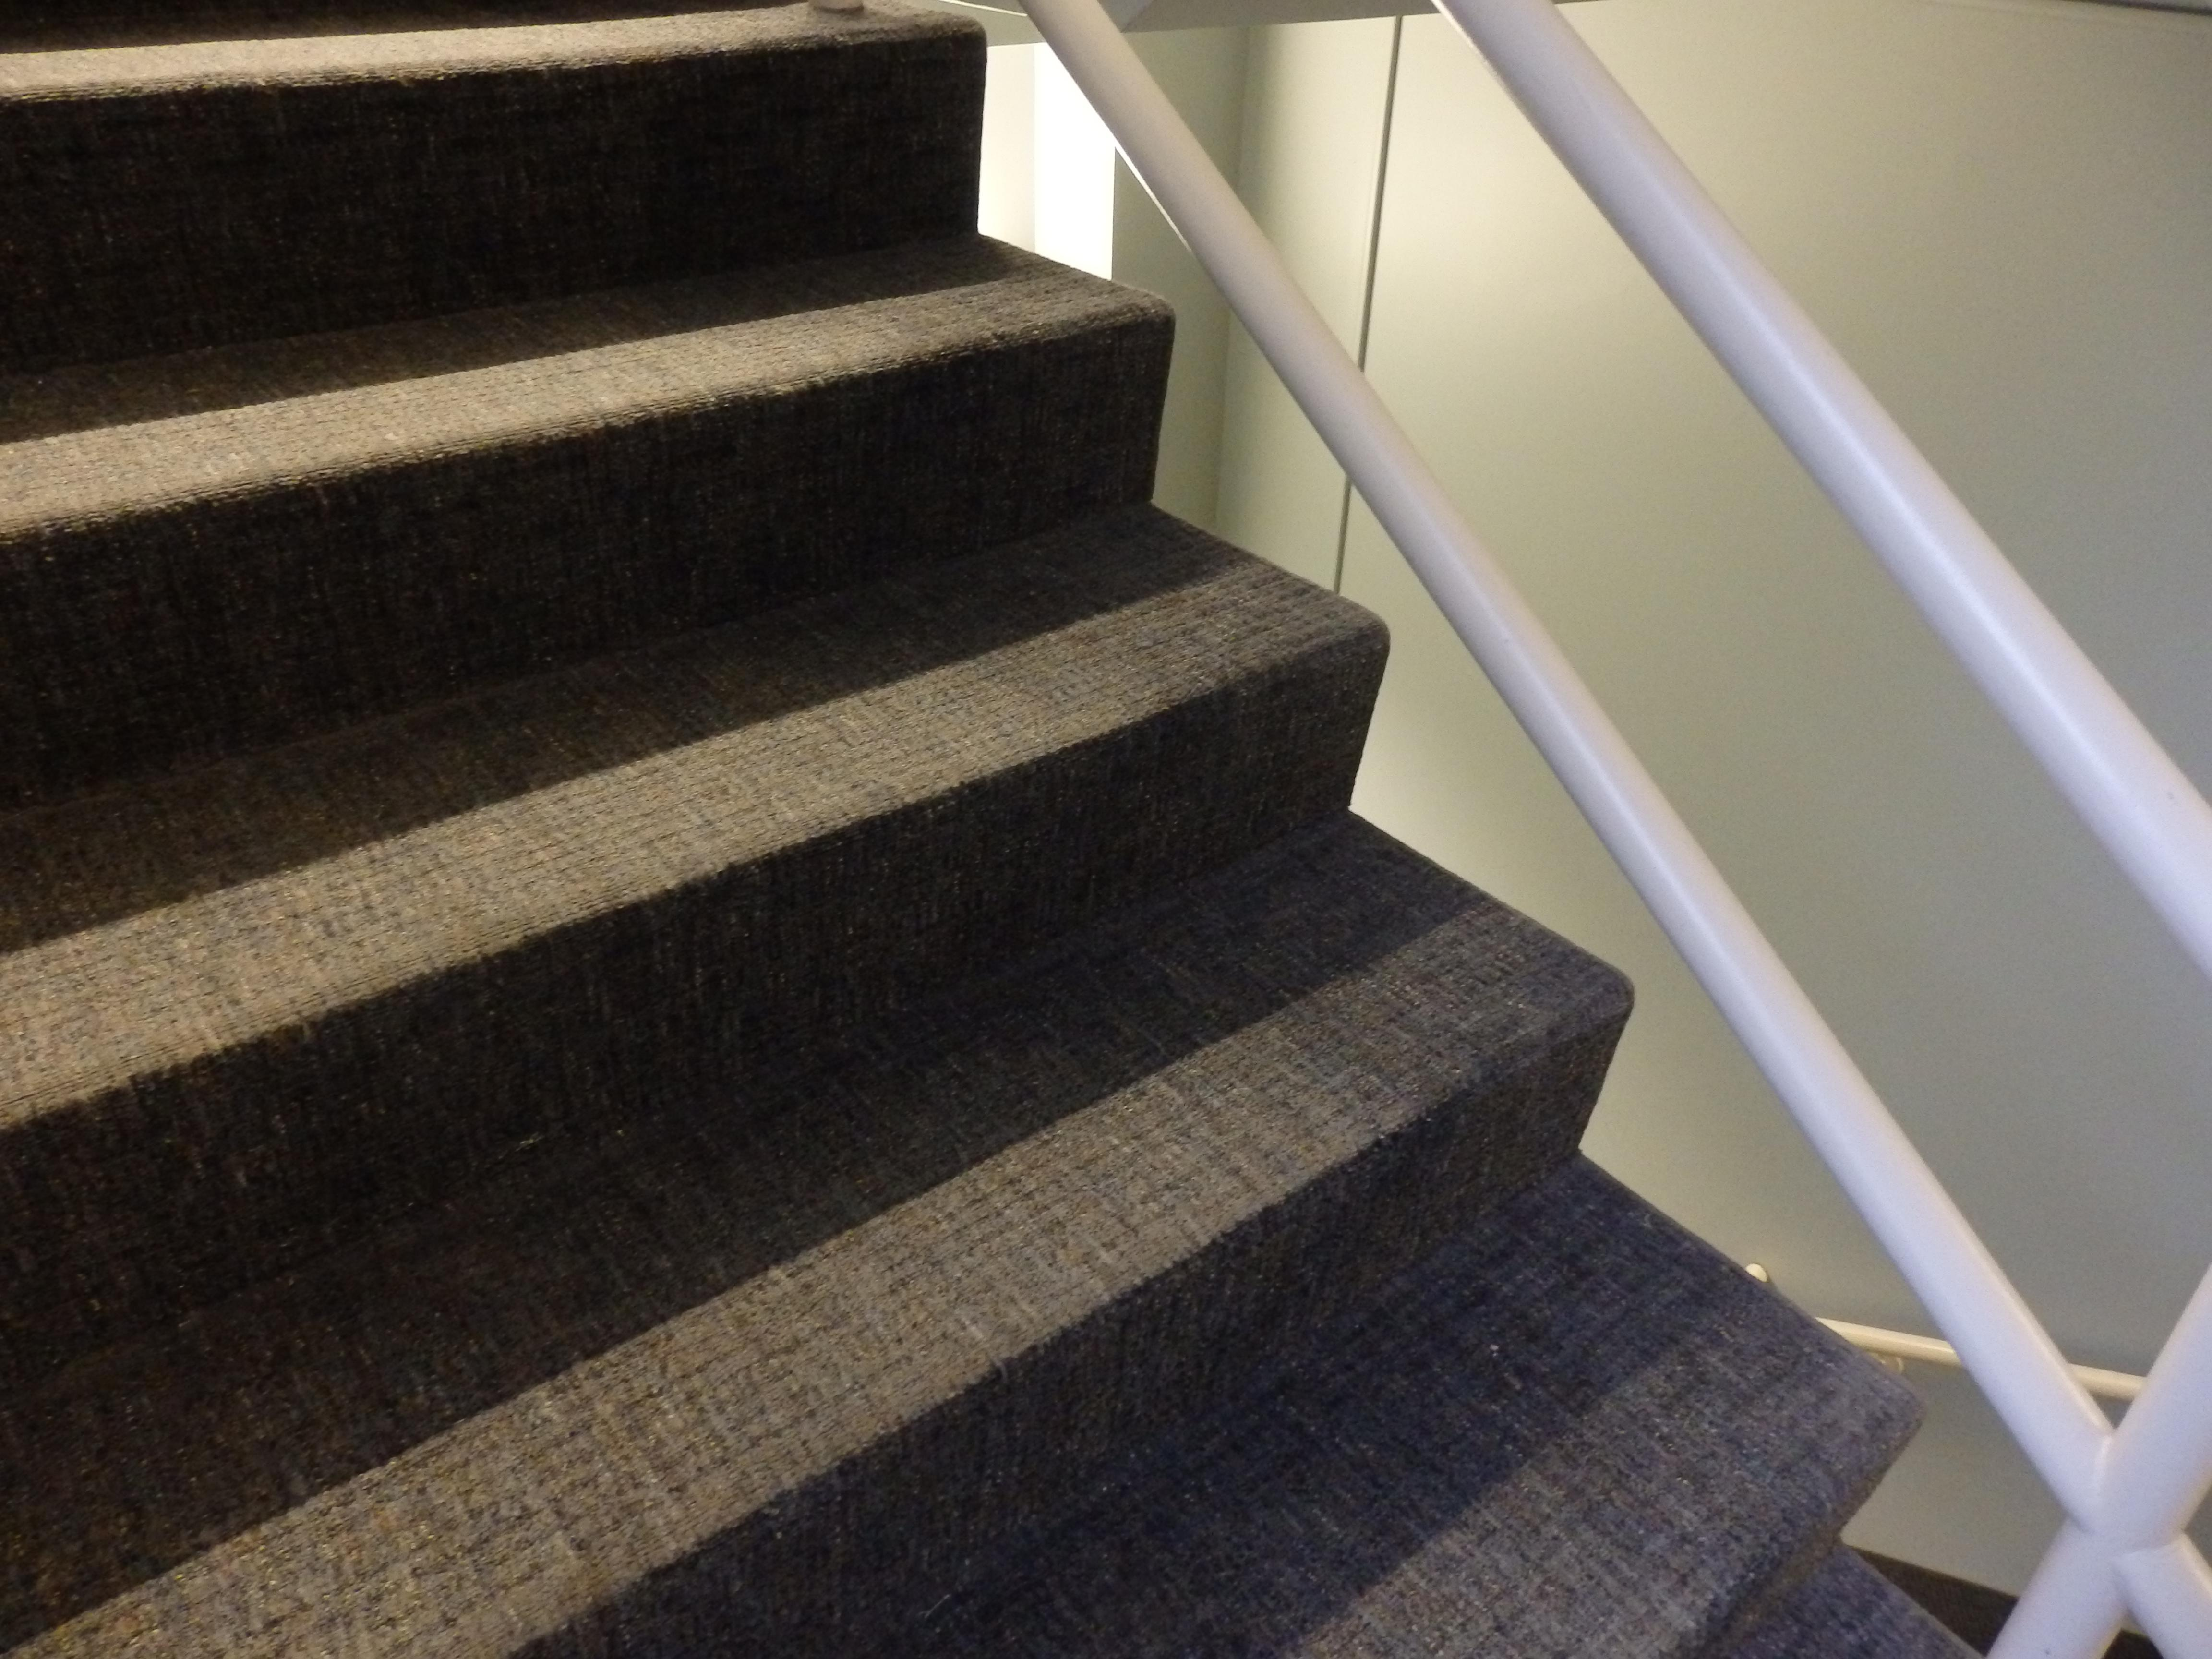stairs_up: (3, 77, 1940, 1645)
